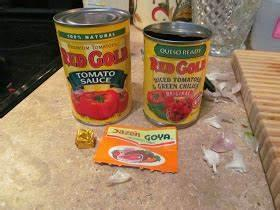metal: (54, 8, 132, 124), (144, 22, 212, 126)
